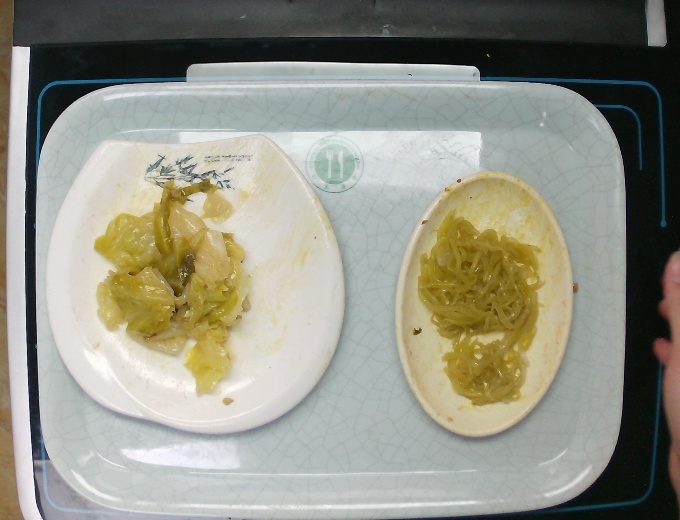JYsf-Mian_Pan: (42, 132, 350, 441)
JYsf-Tuo_Yuan_Wan: (392, 171, 577, 437)
